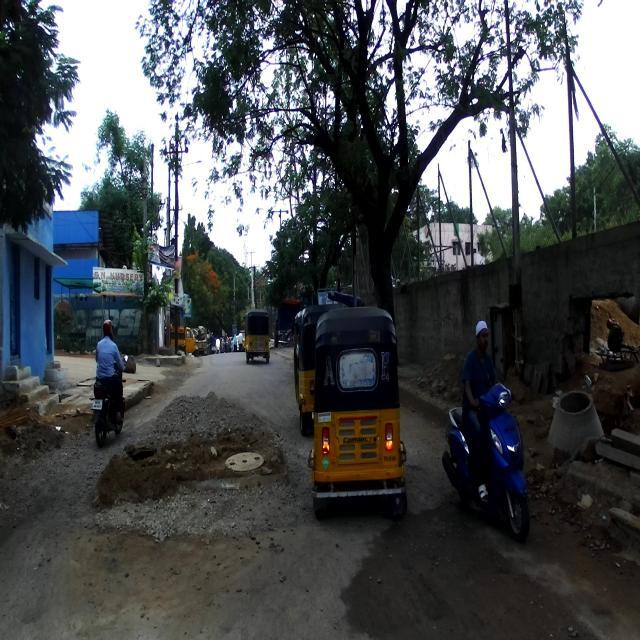pothole: (332, 498, 632, 636), (62, 384, 300, 547)
